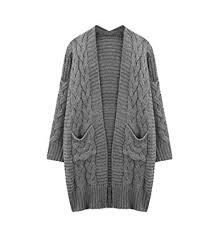S_cardigan sweater: (40, 22, 171, 223)
